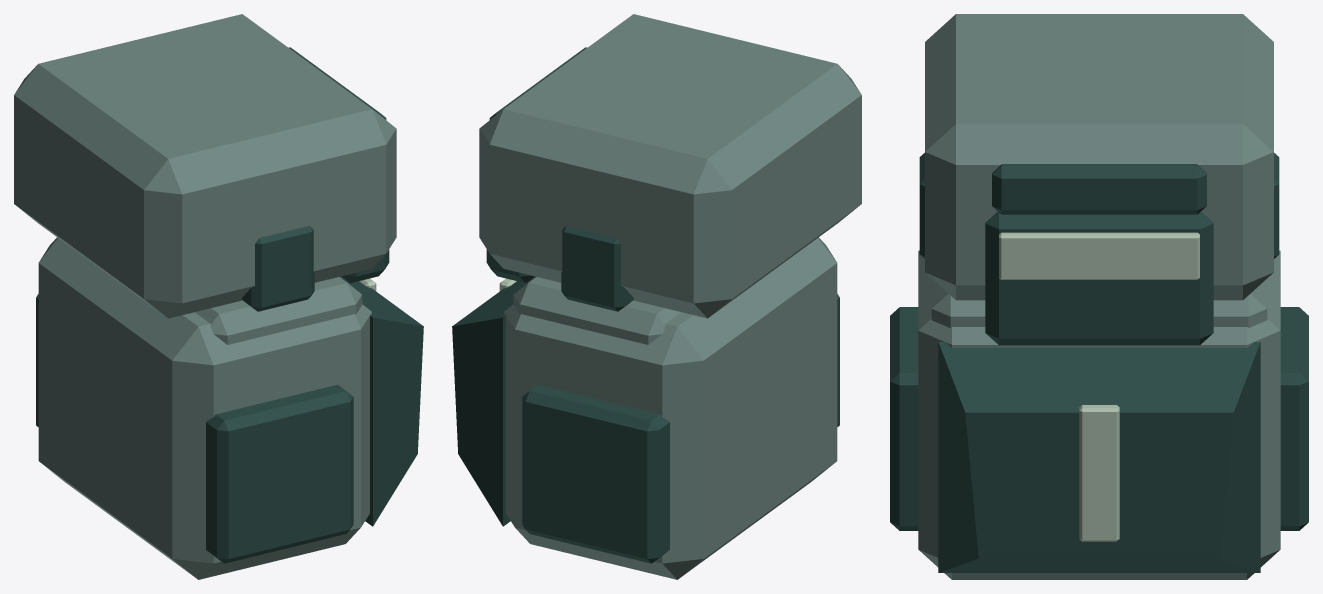
Rendered from sentinel.signature.glb.
3 renders of one model, left to right at view 1: azimuth 30°, elevation 25°; view 2: azimuth 150°, elevation 25°; view 3: azimuth 270°, elevation 25°, orthographic. The views are drawn at different scales.
Parts seen in each view (by area): view 1: sentinel_signature__main__head, sentinel_signature__main__torso, sentinel_signature__main__torso_cosmetic_2c4b47_0.12; view 2: sentinel_signature__main__head, sentinel_signature__main__torso, sentinel_signature__main__torso_cosmetic_2c4b47_0.12; view 3: sentinel_signature__main__head, sentinel_signature__main__torso_cosmetic_2c4b47_0.12, sentinel_signature__main__torso, sentinel_signature__main__head_cosmetic_2c4b47_0.16.
Boxes of the visible parts, x1,y1,x2,y2 form: sentinel_signature__main__head: [14, 14, 396, 318]; sentinel_signature__main__torso: [36, 237, 376, 579]; sentinel_signature__main__torso_cosmetic_2c4b47_0.12: [339, 276, 423, 526]; sentinel_signature__main__head: [479, 14, 861, 318]; sentinel_signature__main__torso: [499, 237, 839, 579]; sentinel_signature__main__torso_cosmetic_2c4b47_0.12: [452, 276, 536, 526]; sentinel_signature__main__head: [919, 14, 1279, 300]; sentinel_signature__main__torso_cosmetic_2c4b47_0.12: [938, 342, 1260, 572]; sentinel_signature__main__torso: [890, 250, 1308, 579]; sentinel_signature__main__head_cosmetic_2c4b47_0.16: [985, 212, 1213, 345].
Bounding box in the file's own units: 27.5 × 38.75 × 31.2.
